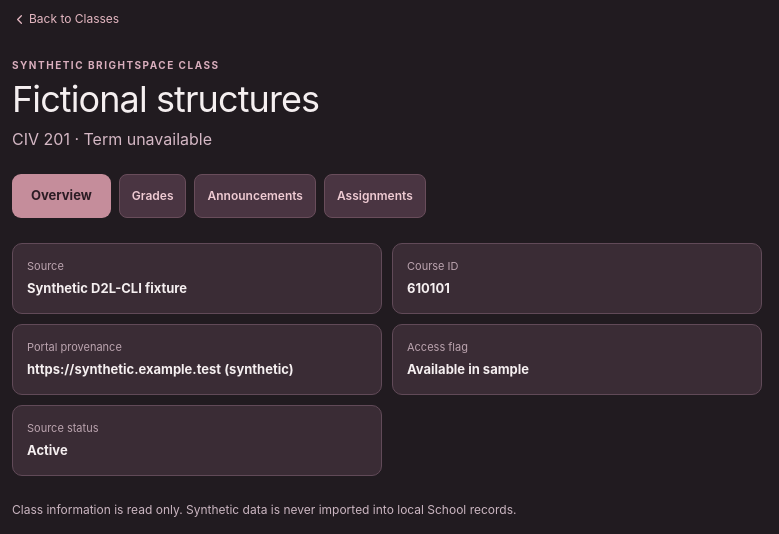
Test: distinguishes empty and offline states and keeps refresh explicit
Click the button "Announcements" at x=255, y=196, box 194,174 -> 316,218
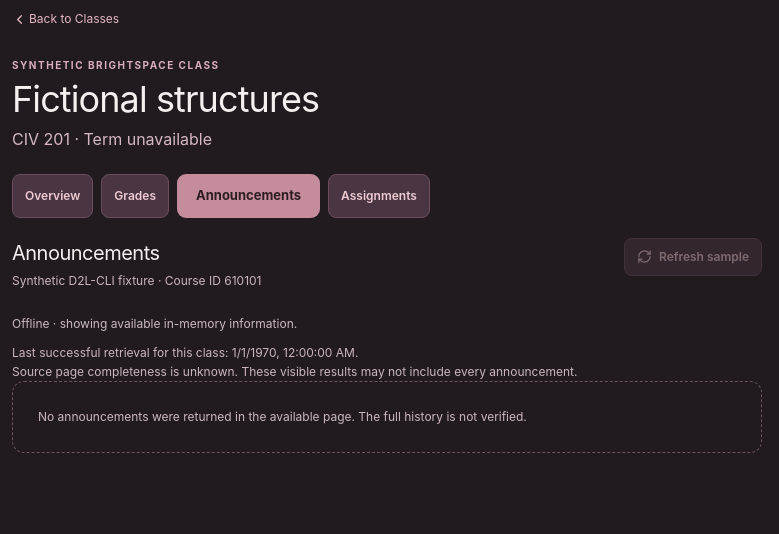
Expected: the button "Assignments" is shown, 328,174 -> 430,218
Result: the text "No announcements were returned in the available page" is shown at 38,409 -> 527,424
Result: the button "Refresh sample" is disabled at 624,238 -> 762,276
